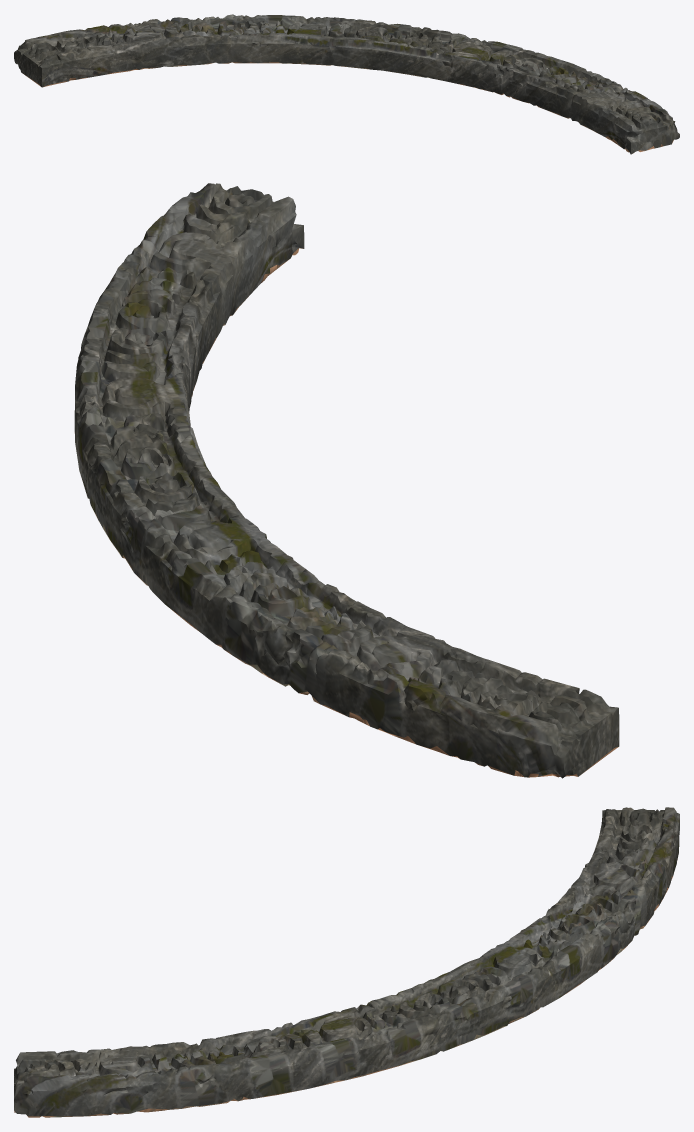
The model's file is SM_StonePattern_D.fbx.
3 renders of one model, top to bottom at view 1: azimuth 30°, elevation 25°; view 2: azimuth 150°, elevation 25°; view 3: azimuth 270°, elevation 25°, orthographic. The views are drawn at different scales.
Visible parts, largest first — view 1: SM_StonePattern_D_LOD0; view 2: SM_StonePattern_D_LOD0; view 3: SM_StonePattern_D_LOD0.
Boxes of the visible parts, x1,y1,x2,y2 form: SM_StonePattern_D_LOD0: (14,14,679,154); SM_StonePattern_D_LOD0: (74,183,619,778); SM_StonePattern_D_LOD0: (14,807,679,1117).
Size of the model in its own units: 352 by 352 by 21.18.
